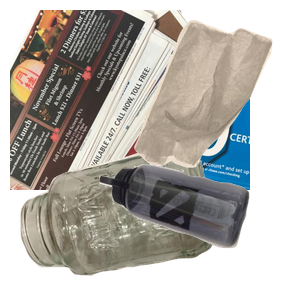glass: (18, 143, 227, 300)
paper: (10, 10, 250, 190)
plastic: (97, 162, 300, 300)
trash: (132, 17, 300, 177)
